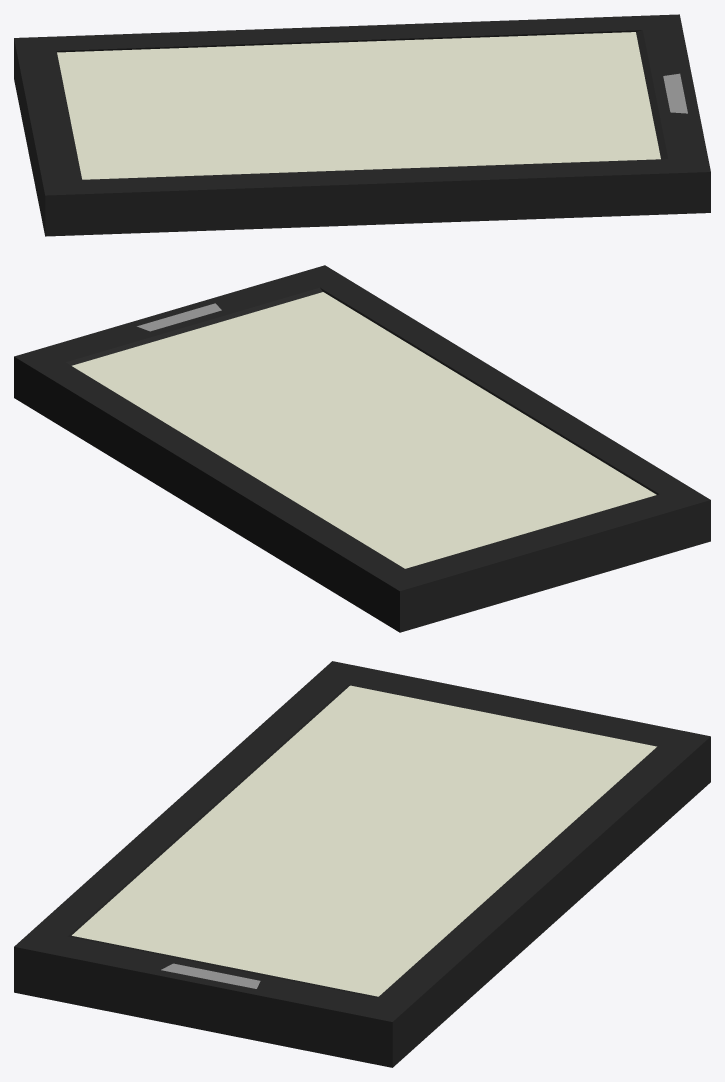
The model's file is movil.glb.
3 renders of one model, top to bottom at view 1: azimuth 30°, elevation 25°; view 2: azimuth 150°, elevation 25°; view 3: azimuth 270°, elevation 25°, orthographic. The views are drawn at different scales.
Visible parts, largest first — view 1: movil; view 2: movil; view 3: movil.
Part boxes in pixels (bbox=[...]): movil: bbox=[14, 14, 710, 236]; movil: bbox=[14, 265, 710, 632]; movil: bbox=[14, 661, 710, 1067].
Size of the model in its own units: 0.6244 by 0.037 by 0.5094.
